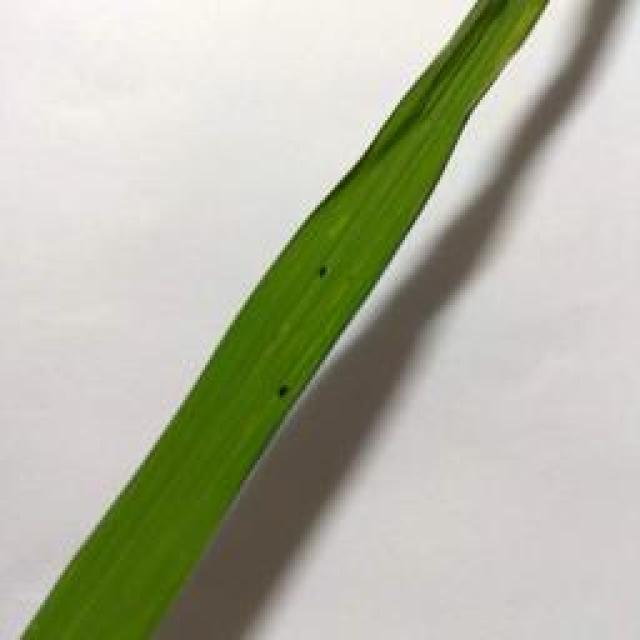Brown_Spot: (261, 377, 310, 410), (311, 260, 338, 284)
